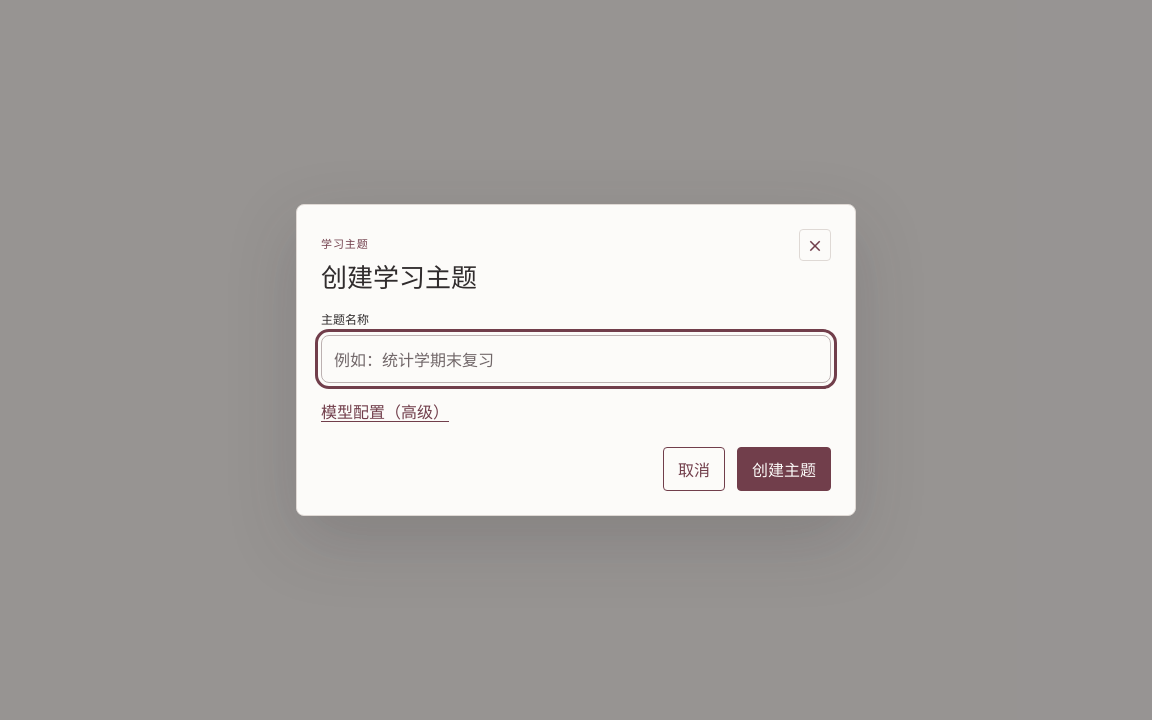
Test: WorkspaceDialog › shows title first and only verified model controls in a collapsed section
Expected: the field labelled "主题名称" is shown, top-left (321, 335), bottom-right (831, 383)
Expected: the field labelled "向量模型" is not shown
Click the button "模型配置（高级）": click(385, 411) top-left (321, 399), bottom-right (449, 423)
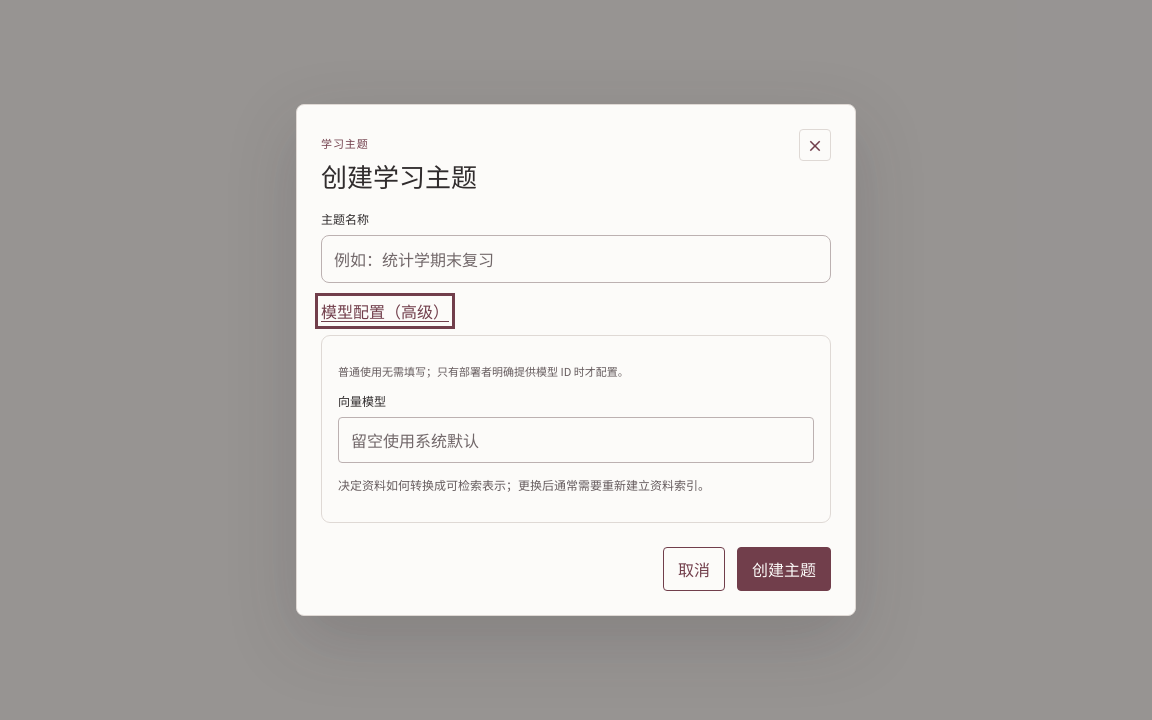
Expected: the field labelled "向量模型" is shown, top-left (338, 417), bottom-right (814, 463)
Expected: the text "决定资料如何转换成可检索表示；更换后通常需要重新建立资料索引。" is shown, top-left (338, 476), bottom-right (710, 493)
